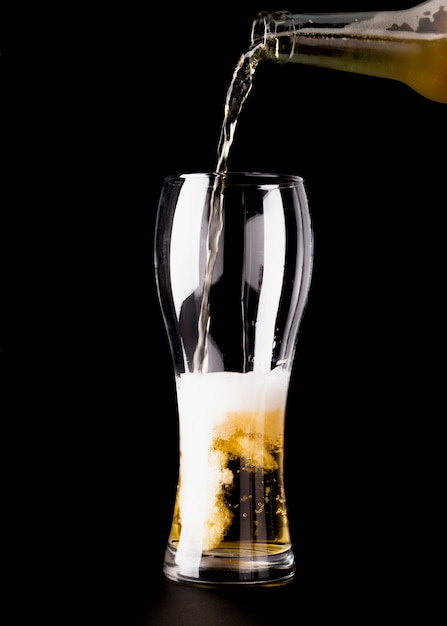alcohol: (156, 165, 309, 586), (252, 3, 447, 105)
